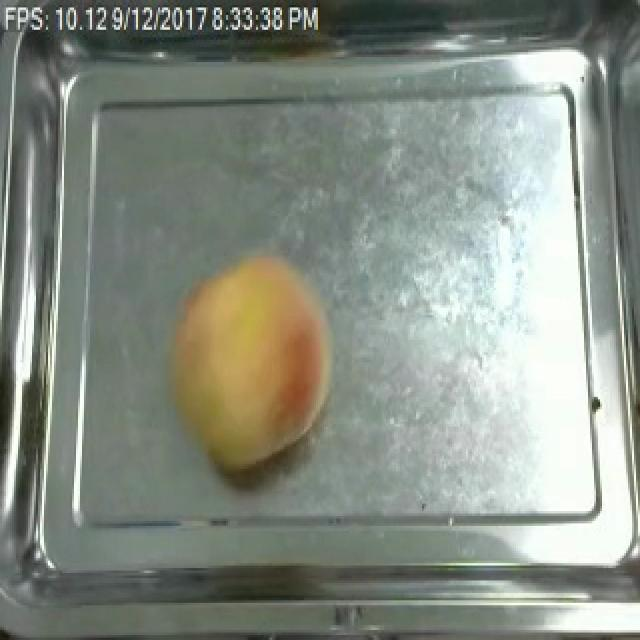Fruit: (160, 246, 344, 476)
